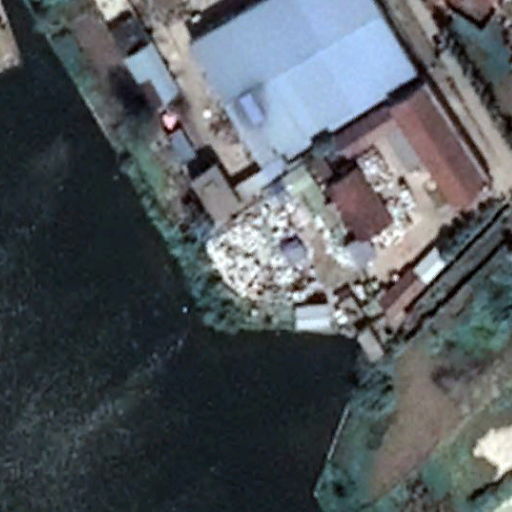msw: (204, 200, 354, 307)
